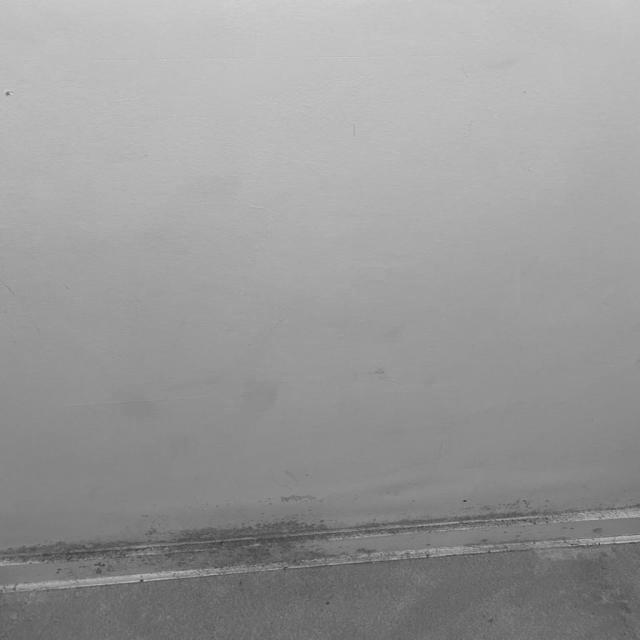stain marks: (0, 481, 640, 595), (70, 360, 305, 471), (454, 48, 535, 76)
